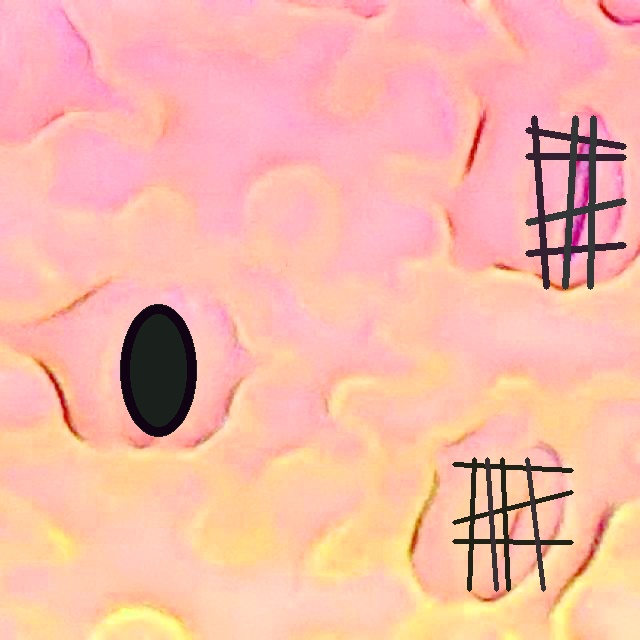close: (452, 457, 573, 591), (120, 305, 197, 436)
open: (525, 115, 626, 289)
